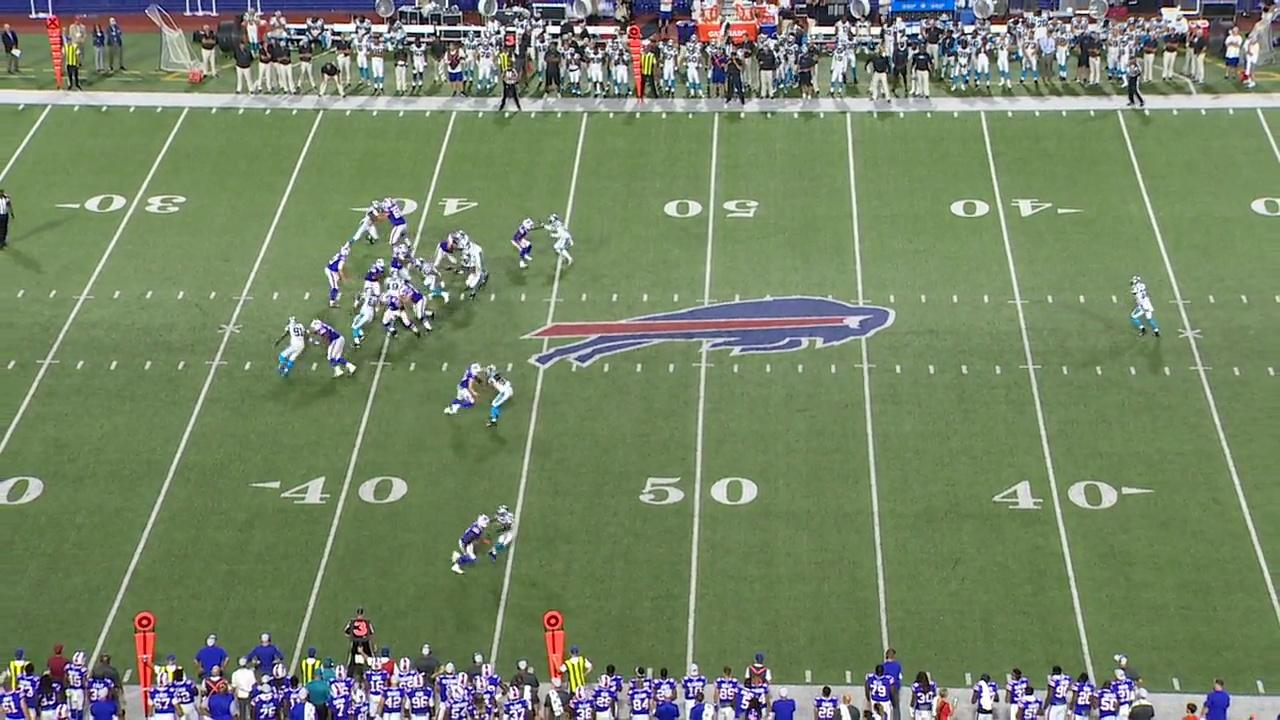five_hash: (852, 362, 879, 369), (542, 297, 565, 304), (849, 298, 872, 305), (691, 362, 715, 368), (233, 295, 254, 301), (36, 359, 60, 364), (205, 361, 229, 366), (370, 361, 392, 366), (1189, 366, 1213, 370), (1007, 300, 1030, 304), (1169, 300, 1192, 304), (72, 295, 94, 299), (1020, 365, 1042, 368)
hash: (143, 359, 153, 370), (1266, 366, 1276, 377), (602, 362, 610, 374), (16, 289, 26, 298), (109, 359, 118, 369), (961, 365, 970, 375), (894, 364, 903, 373), (207, 291, 217, 299), (1129, 366, 1137, 376), (7, 360, 16, 368), (409, 361, 416, 371), (506, 362, 513, 372), (797, 364, 804, 374), (928, 365, 935, 375), (1233, 367, 1240, 377), (458, 292, 465, 302), (571, 362, 577, 373), (636, 362, 642, 373), (48, 289, 56, 297), (177, 291, 185, 299), (76, 360, 84, 368), (441, 363, 449, 371), (1208, 295, 1216, 303), (1240, 295, 1248, 303), (270, 292, 279, 299), (178, 361, 185, 370), (244, 361, 251, 370), (732, 364, 739, 373), (765, 364, 772, 373), (1047, 295, 1054, 304), (995, 365, 1001, 375), (1062, 365, 1068, 375), (520, 293, 526, 303), (112, 291, 120, 298), (889, 295, 896, 303), (1079, 295, 1086, 303), (1112, 295, 1119, 303), (668, 363, 674, 372), (830, 364, 836, 373), (1096, 366, 1102, 375), (1164, 367, 1170, 376), (581, 293, 587, 302), (612, 293, 618, 302), (983, 295, 989, 304), (147, 291, 154, 298), (311, 362, 317, 370), (642, 294, 648, 302), (673, 294, 679, 302), (1274, 295, 1280, 303), (490, 293, 496, 300), (921, 295, 926, 303), (953, 295, 958, 303), (305, 292, 310, 299)
marker: (130, 611, 158, 720), (540, 609, 565, 693), (622, 26, 650, 98), (43, 15, 69, 91)
number: (247, 470, 411, 510), (986, 477, 1157, 515), (635, 472, 763, 509), (54, 189, 190, 221), (946, 194, 1086, 224), (659, 195, 761, 225)
